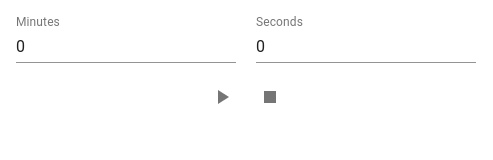
it: the time inputs are disabled when the timer is playing
Click the button named "play".
click(222, 97)  # box [198,73,246,121]
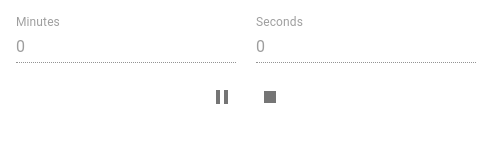
Now the number field labelled "Seconds" is disabled, box [256,31,476,63]
Now the number field labelled "Minutes" is disabled, box [16,31,236,63]
